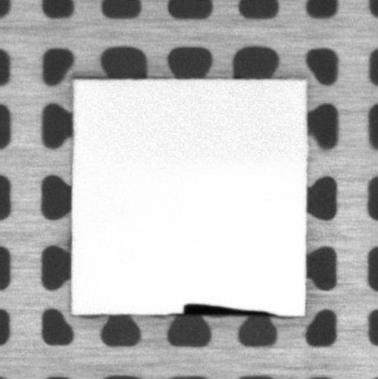DIE_BROKEN: (182, 303, 279, 319)
